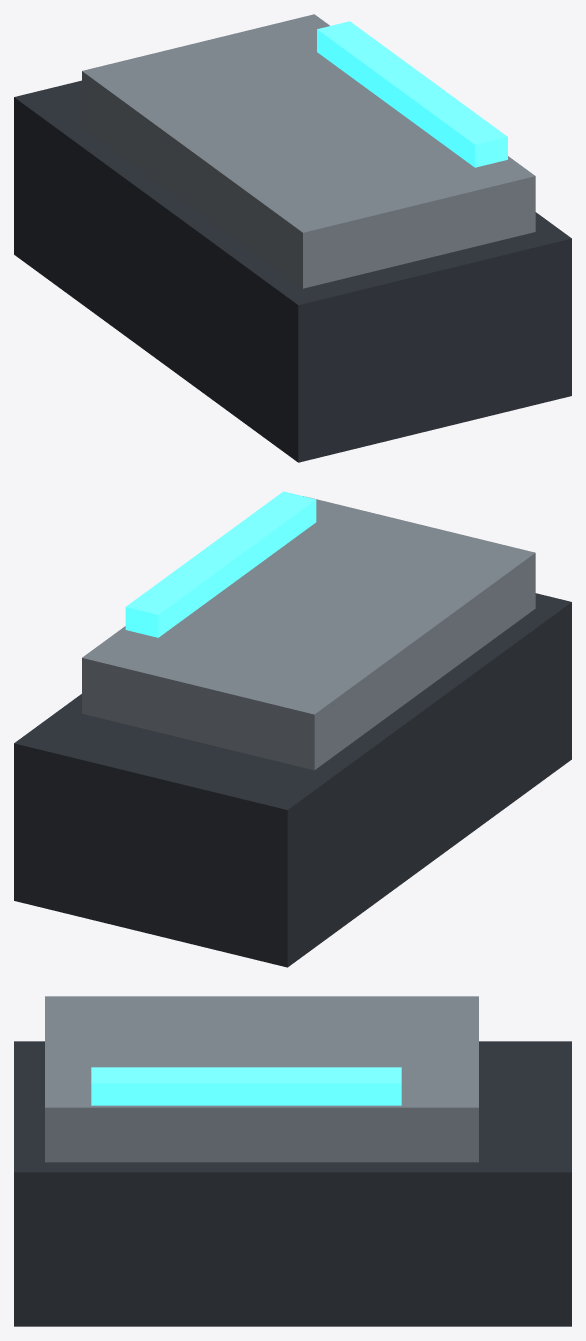
The model's file is cyber_foot.glb.
3 renders of one model, top to bottom at view 1: azimuth 30°, elevation 25°; view 2: azimuth 150°, elevation 25°; view 3: azimuth 270°, elevation 25°, orthographic.
Visible parts, largest first — view 1: part_000, part_001, part_002; view 2: part_000, part_001, part_002; view 3: part_000, part_001, part_002.
Boxes of the visible parts, x1,y1,x2,y2 form: part_000: (14,80,571,462); part_001: (82,14,535,288); part_002: (317,21,507,167); part_000: (14,593,571,967); part_001: (82,496,535,770); part_002: (125,491,316,637); part_000: (14,1041,571,1326); part_001: (45,996,478,1162); part_002: (91,1067,401,1105).
Size of the model in its own units: 0.1 by 0.0825 by 0.18.
